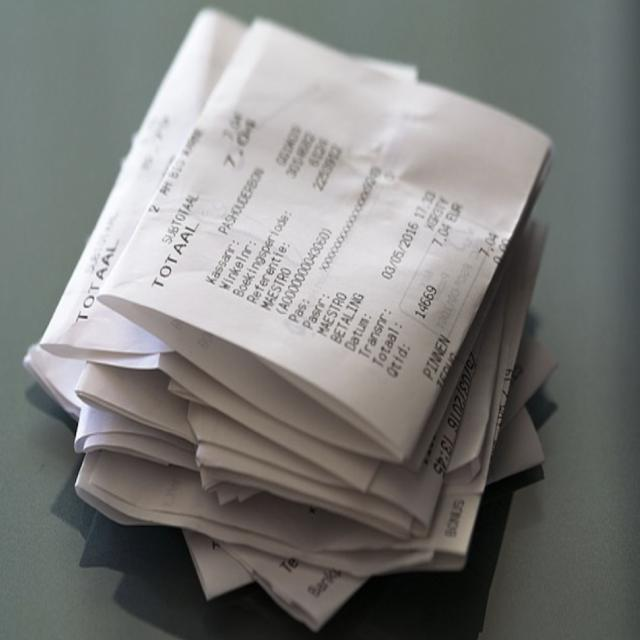biodegradable: (32, 4, 608, 640)
